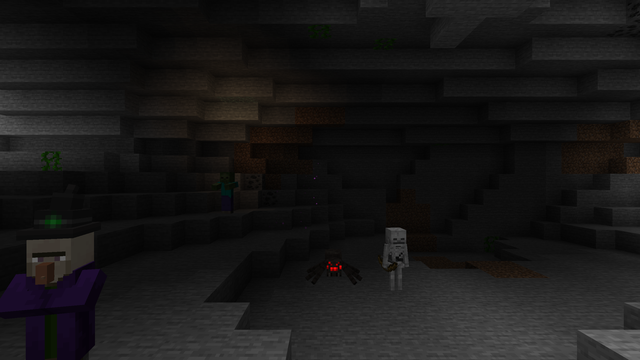araignees: (314, 248, 354, 285)
sorcieres: (14, 225, 102, 356)
squelettes: (384, 227, 407, 292)
zombies: (218, 173, 234, 214)
